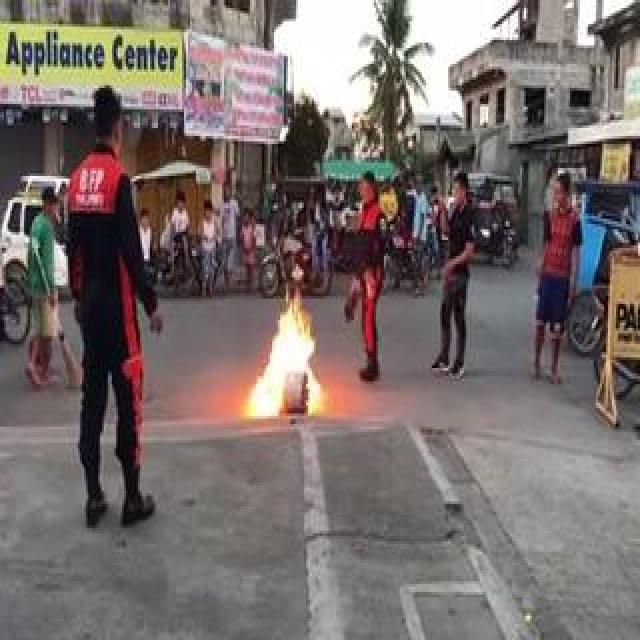Smoke: (242, 322, 334, 386)
